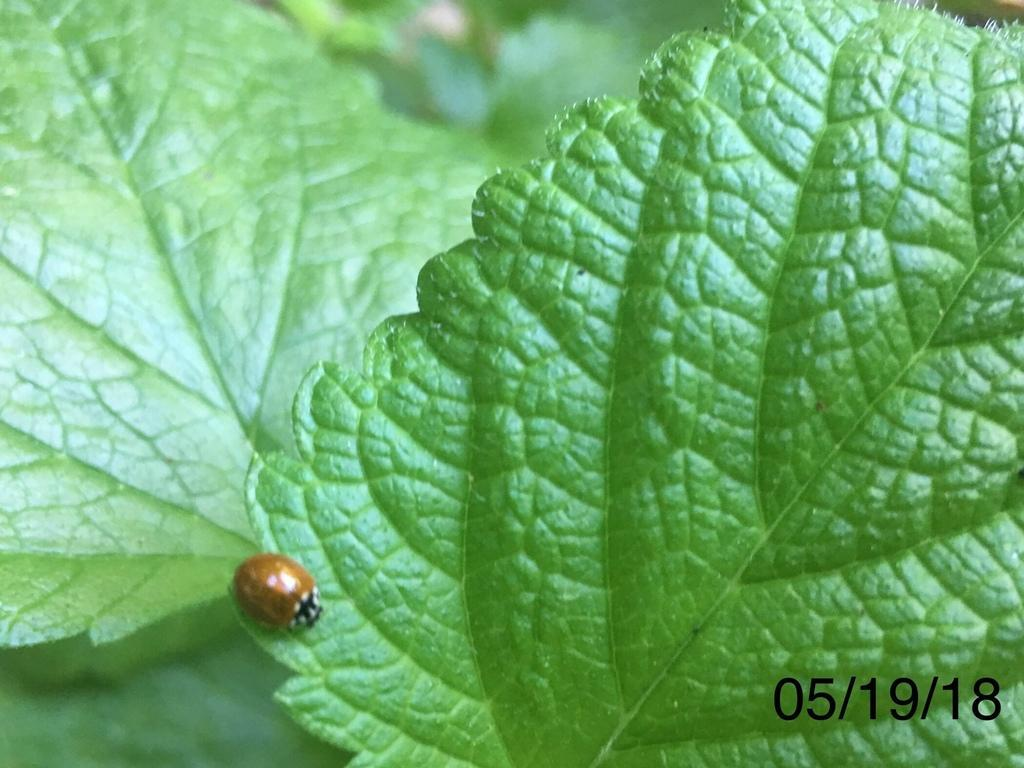ladybug: (233, 549, 329, 641)
